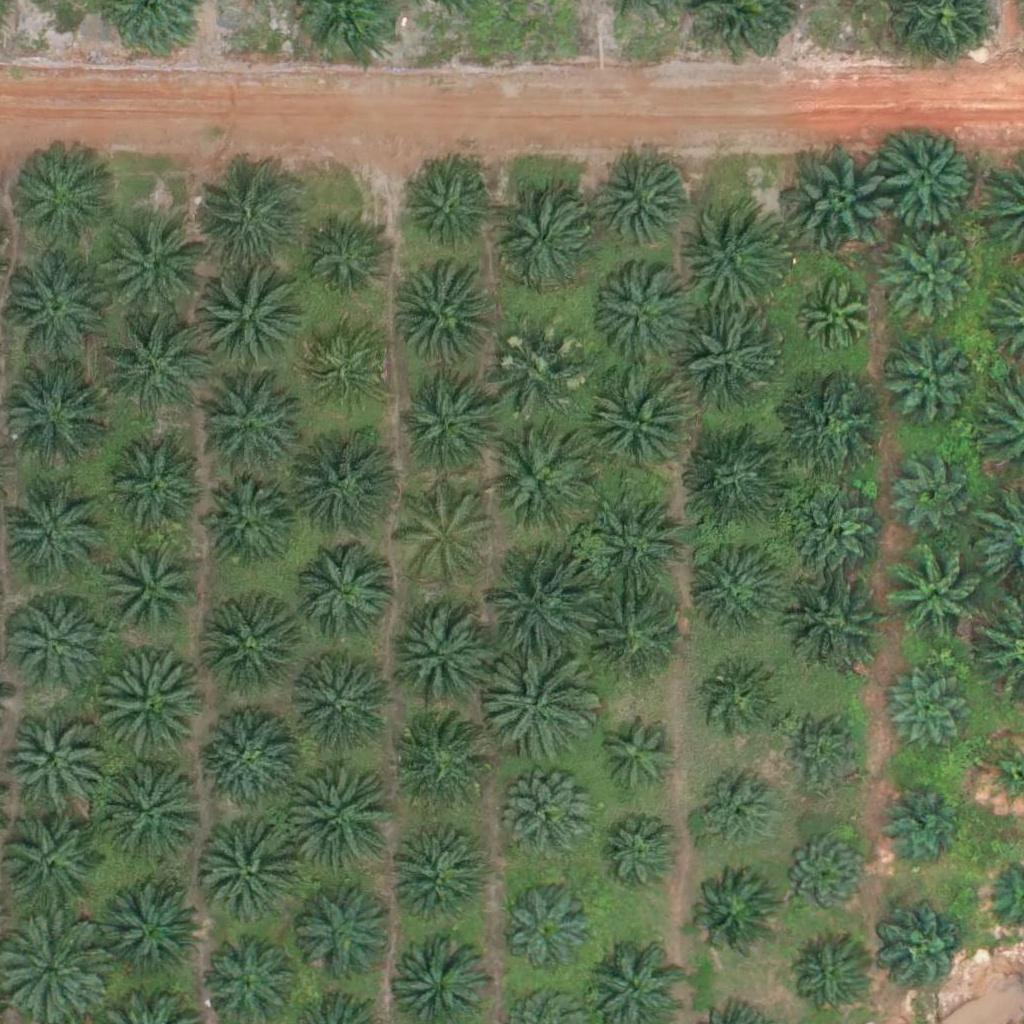Kelapa_Sawit: (93, 651, 206, 764), (95, 206, 208, 319), (189, 262, 302, 375), (285, 758, 398, 871), (771, 369, 884, 482), (1, 468, 113, 582), (291, 648, 403, 762), (484, 647, 596, 761), (484, 555, 596, 669), (789, 149, 901, 263), (7, 142, 119, 255), (95, 755, 207, 868), (98, 310, 210, 423), (188, 169, 300, 282), (295, 430, 407, 543), (394, 597, 506, 710), (678, 200, 790, 313), (675, 308, 787, 421), (683, 421, 795, 534), (6, 593, 106, 694), (3, 709, 103, 810), (101, 874, 201, 975), (103, 436, 203, 537), (102, 540, 202, 641), (199, 375, 299, 476), (196, 597, 296, 698), (202, 705, 302, 806), (201, 830, 301, 931), (294, 882, 394, 983), (301, 541, 401, 642), (395, 263, 495, 364), (392, 487, 492, 588), (387, 717, 487, 818), (391, 832, 491, 933), (492, 187, 592, 288), (489, 335, 589, 436), (593, 150, 693, 251), (594, 379, 694, 480), (589, 495, 689, 596), (587, 587, 687, 688), (685, 538, 785, 639), (874, 123, 974, 224), (877, 229, 977, 330), (886, 542, 986, 643), (196, 475, 296, 575), (394, 378, 494, 478), (500, 879, 600, 979), (490, 434, 590, 534), (590, 269, 690, 369), (787, 565, 887, 665), (591, 810, 679, 899), (697, 664, 785, 752), (303, 323, 391, 411), (408, 166, 496, 254), (884, 329, 972, 417), (892, 450, 980, 538), (884, 670, 972, 758), (881, 909, 969, 997), (781, 829, 868, 917), (781, 708, 868, 796), (588, 717, 675, 805), (691, 768, 778, 856), (687, 868, 774, 956), (301, 215, 388, 303), (507, 780, 594, 868), (792, 275, 879, 363), (793, 492, 880, 580), (879, 776, 966, 864)
